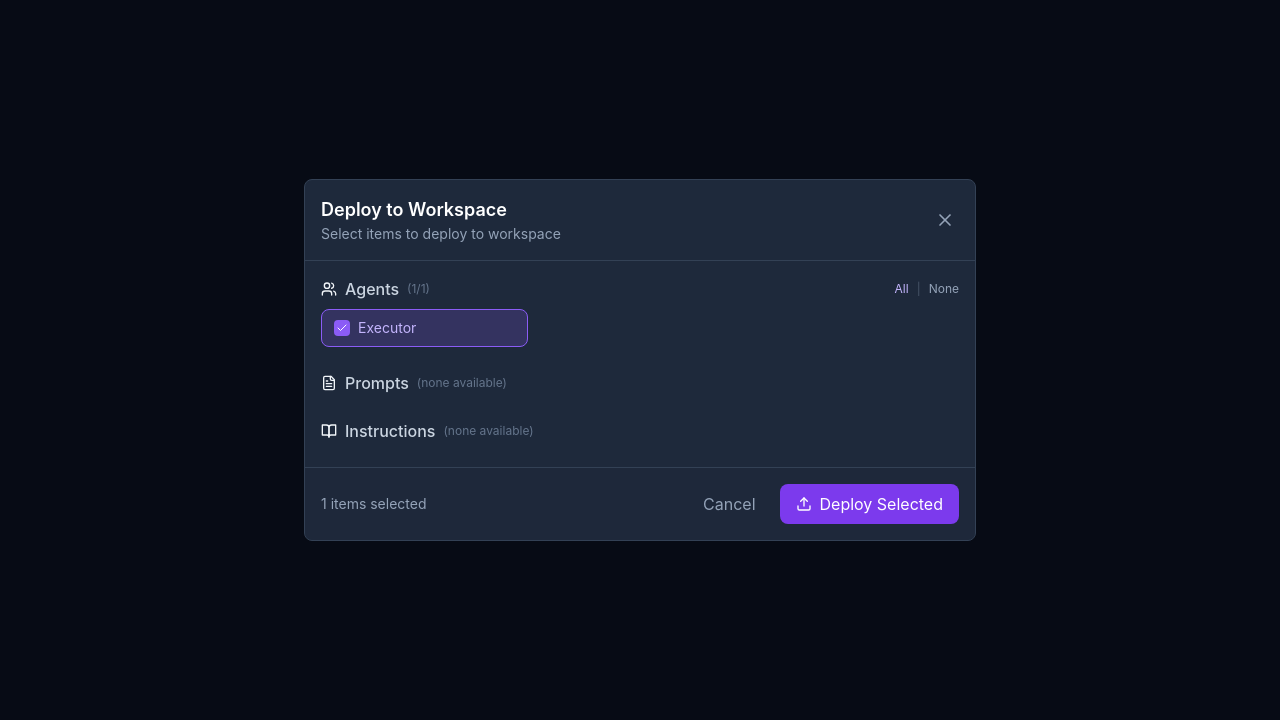
Test: DeployModal archive metadata › shows archive metadata in deploy success message
Click the button "Deploy Selected" at (869, 504), box [780,484,959,524]
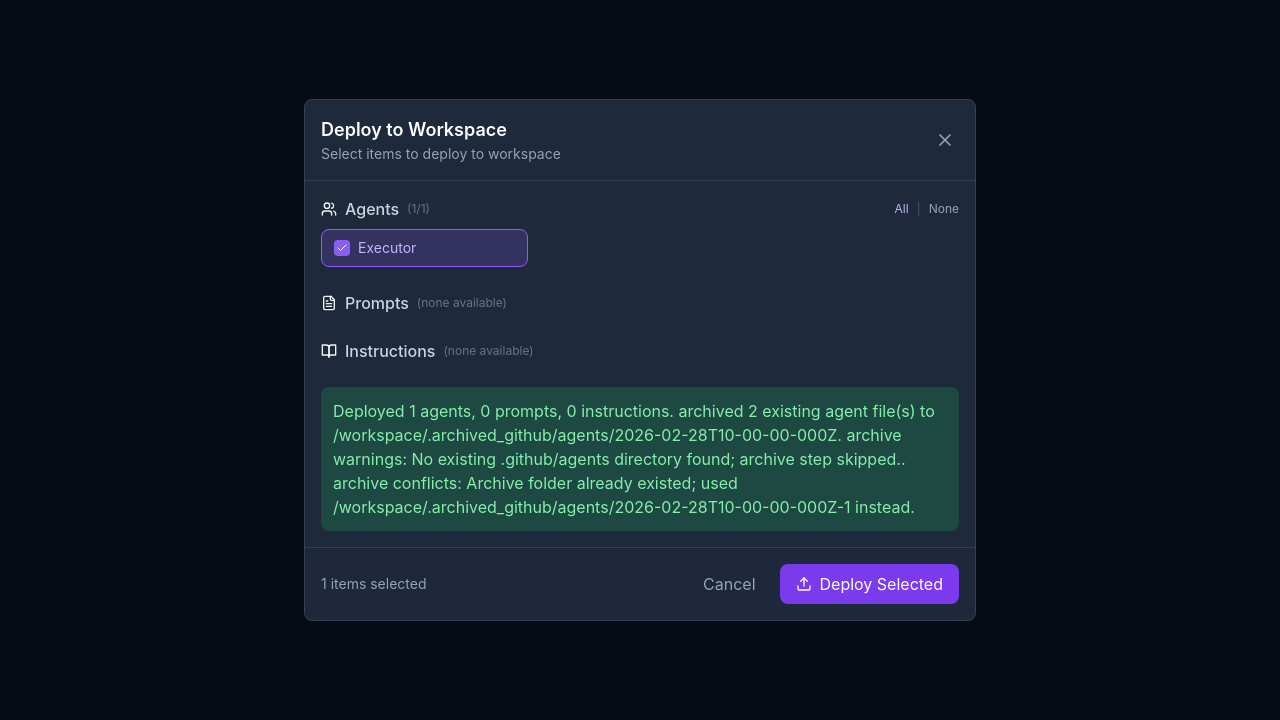
Expected: the text "archive conflicts:" is shown, [333,401,935,517]
